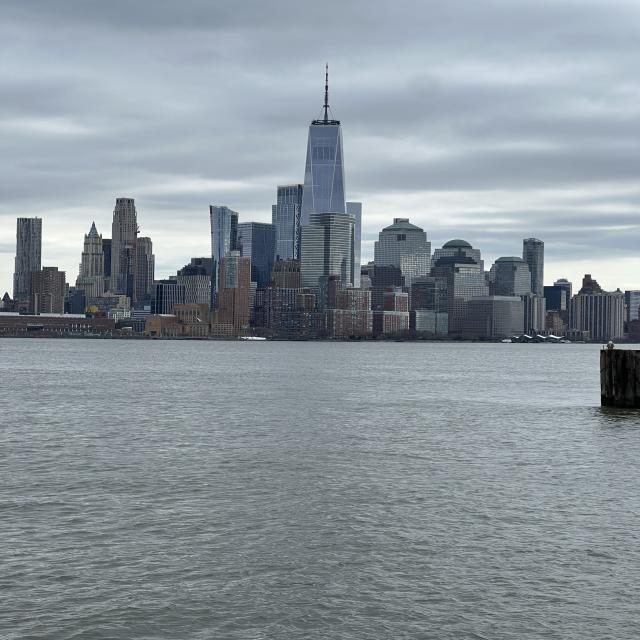WTC: (303, 64, 344, 214)
